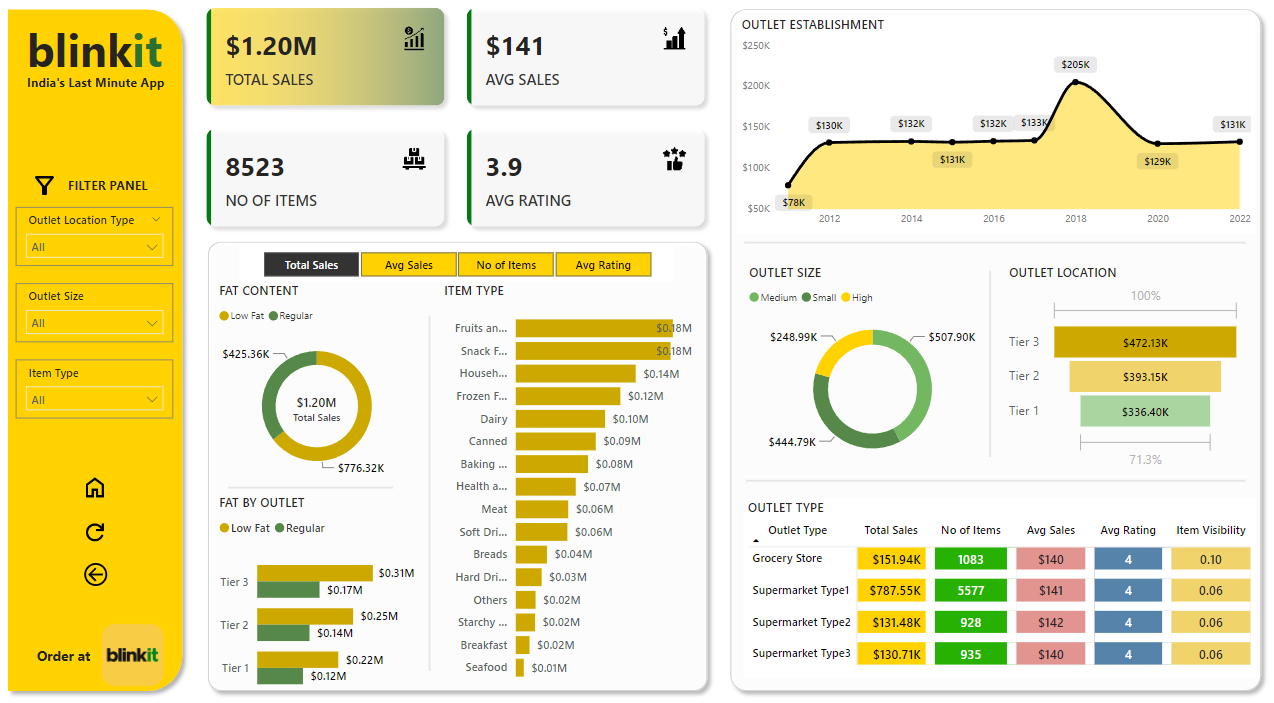

Layout of this report page (visuals, bound fields, positions):
{"tool":"powerbi","page":{"name":"Page 1","canvas":[1400,800],"ordinal":0},"visuals":[{"type":"shape","box":[18.8,25.5,205.1,749.3],"z":0},{"type":"textbox","box":[34.9,99.2,174.3,29.5],"z":1000},{"type":"textbox","box":[42.9,40.2,164.9,73.7],"z":2000},{"type":"cardVisual","fields":{"Data":["Measures Table.Total Sales","Measures Table.Avg Sales","Measures Table.No of Items","Measures Table.Avg Rating"]},"box":[223.9,16.1,569.7,269.4],"z":3000},{"type":"shape","box":[233.2,274.8,553.6,500],"z":4000},{"type":"donutChart","title":"FAT CONTENT","fields":{"Y":["Measures Table.Total Sales"],"Category":["BlinkIT Grocery Data.Item Fat Content"]},"box":[249.3,327.1,219.8,221.2],"z":5000},{"type":"slicer","fields":{"Values":["Metrics.Metrics"]},"box":[276.2,288.8,465.5,39.5],"z":6000},{"type":"cardVisual","fields":{"Data":["Measures Table.Total Sales"]},"box":[298.9,430.3,120.6,61.7],"z":7000},{"type":"clusteredBarChart","title":"FAT BY OUTLET","fields":{"Y":["Measures Table.Total Sales"],"Category":["BlinkIT Grocery Data.Outlet Location Type"],"Series":["BlinkIT Grocery Data.Item Fat Content"]},"box":[249.3,553.6,219.8,230.6],"z":8000},{"type":"shape","box":[264.1,529.5,176.9,36.2],"z":9000},{"type":"shape","box":[469.2,363.3,21.4,380.7],"z":10000},{"type":"barChart","title":"ITEM TYPE","fields":{"Y":["Measures Table.Total Sales"],"Category":["BlinkIT Grocery Data.Item Type"]},"box":[490.6,327.1,276.1,438.3],"z":11000},{"type":"shape","box":[793.6,25.5,587.1,749.3],"z":12000},{"type":"lineChart","title":"OUTLET ESTABLISHMENT","fields":{"Category":["BlinkIT Grocery Data.Outlet Establishment Year"],"Y":["Measures Table.Total Sales"]},"box":[809.7,41.6,556.3,234.6],"z":13000},{"type":"shape","box":[817.7,266.8,537.5,36.2],"z":14000},{"type":"donutChart","title":"OUTLET SIZE","fields":{"Y":["Measures Table.Total Sales"],"Category":["BlinkIT Grocery Data.Outlet Size"]},"box":[817.5,307.1,275,225],"z":15000},{"type":"shape","box":[1069.7,315,22.8,199.7],"z":16000},{"type":"funnel","title":"OUTLET LOCATION","fields":{"Y":["Measures Table.Total Sales"],"Category":["BlinkIT Grocery Data.Outlet Location Type"]},"box":[1096.5,307.3,258.8,225.7],"z":17000},{"type":"shape","box":[819,522.8,536.2,34.9],"z":18000},{"type":"pivotTable","title":"OUTLET TYPE","fields":{"Rows":["BlinkIT Grocery Data.Outlet Type"],"Values":["Measures Table.Total Sales","Measures Table.No of Items","Measures Table.Avg Sales","Measures Table.Avg Rating","Avg(BlinkIT Grocery Data.Item Visibility)"]},"box":[816.4,559,549.6,193],"z":19000},{"type":"slicer","fields":{"Values":["BlinkIT Grocery Data.Outlet Location Type"]},"box":[36.3,246.2,168.8,63.1],"z":20000},{"type":"slicer","fields":{"Values":["BlinkIT Grocery Data.Outlet Size"]},"box":[36.3,328.2,168.8,63.1],"z":21000},{"type":"slicer","fields":{"Values":["BlinkIT Grocery Data.Item Type"]},"box":[36.3,410.3,168.8,63.1],"z":22000},{"type":"textbox","box":[87.1,209.1,107.2,28.2],"z":23000},{"type":"image","box":[46.9,203.8,40.2,40.2],"z":24000},{"type":"image","box":[101.9,528.2,38.9,38.9],"z":25000},{"type":"image","box":[101.9,576.4,38.9,38.9],"z":26000},{"type":"image","box":[122,689,79.1,76.4],"z":26001},{"type":"textbox","box":[53.6,713.1,93.8,37.5],"z":26002},{"type":"actionButton","box":[104.6,623.3,34.9,34.9],"z":26003}]}

Visuals, with their boxes on the page's 1400x800 design canvas (x1, y1, x2, y2). These are canvas units, not pixel positions in the 1274x703 screenshot, which may show the page scaled, cropped or inside an application window:
shape: [19,26,224,775]
textbox: [35,99,209,129]
textbox: [43,40,208,114]
cardVisual - Measures Table.Total Sales x Measures Table.Avg Sales: [224,16,794,286]
shape: [233,275,787,775]
"FAT CONTENT" donutChart: [249,327,469,548]
slicer - Metrics.Metrics: [276,289,742,328]
cardVisual - Measures Table.Total Sales: [299,430,420,492]
"FAT BY OUTLET" clusteredBarChart: [249,554,469,784]
shape: [264,530,441,566]
shape: [469,363,491,744]
"ITEM TYPE" barChart: [491,327,767,765]
shape: [794,26,1381,775]
"OUTLET ESTABLISHMENT" lineChart: [810,42,1366,276]
shape: [818,267,1355,303]
"OUTLET SIZE" donutChart: [818,307,1092,532]
shape: [1070,315,1092,515]
"OUTLET LOCATION" funnel: [1096,307,1355,533]
shape: [819,523,1355,558]
"OUTLET TYPE" pivotTable: [816,559,1366,752]
slicer - BlinkIT Grocery Data.Outlet Location Type: [36,246,205,309]
slicer - BlinkIT Grocery Data.Outlet Size: [36,328,205,391]
slicer - BlinkIT Grocery Data.Item Type: [36,410,205,473]
textbox: [87,209,194,237]
image: [47,204,87,244]
image: [102,528,141,567]
image: [102,576,141,615]
image: [122,689,201,765]
textbox: [54,713,147,751]
actionButton: [105,623,140,658]
